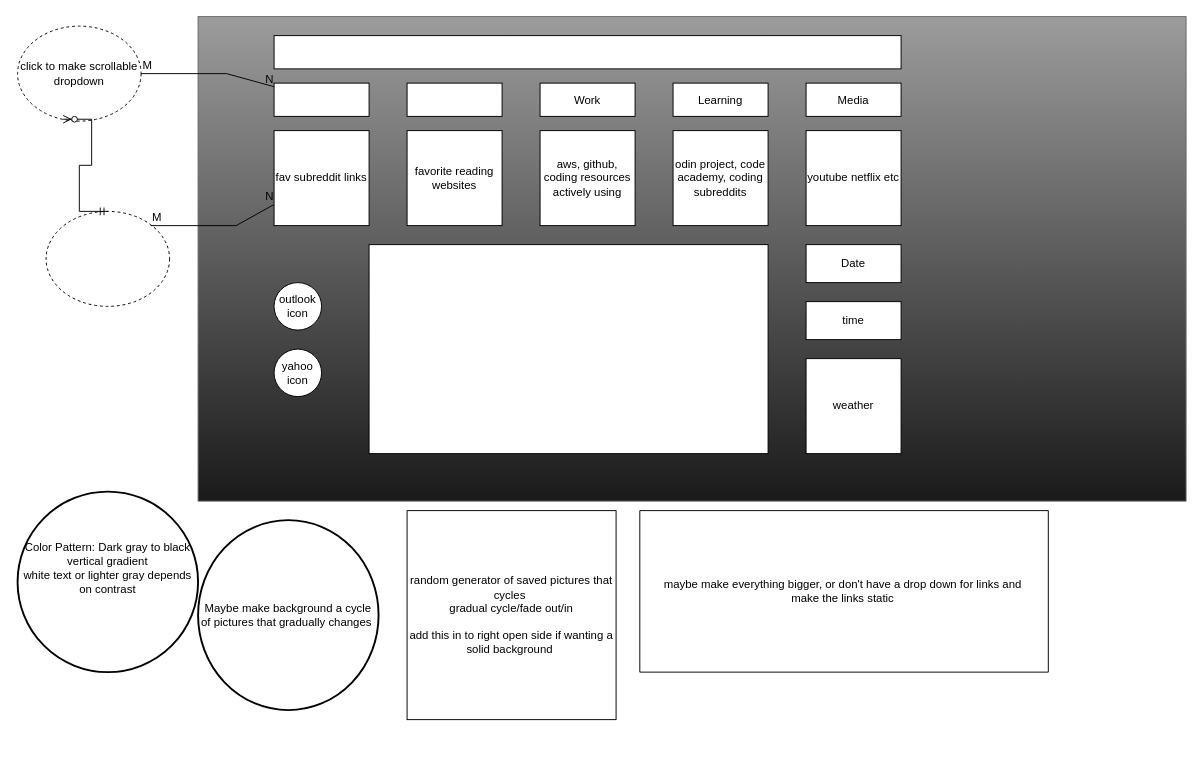
The diagram is 1203 pixels wide and 774 high, and some of its shapes have lost their labels. The box of each missing label's shape, as (x1, y1, x2, y2) in pixels:
Dropdown scroll if many links: (45, 210, 170, 306)
Readable emails display scrollable opacity 100 on background: (368, 244, 768, 454)
Reading: (406, 82, 502, 116)
Reddit: (273, 82, 369, 116)
search engine: (273, 35, 901, 69)
